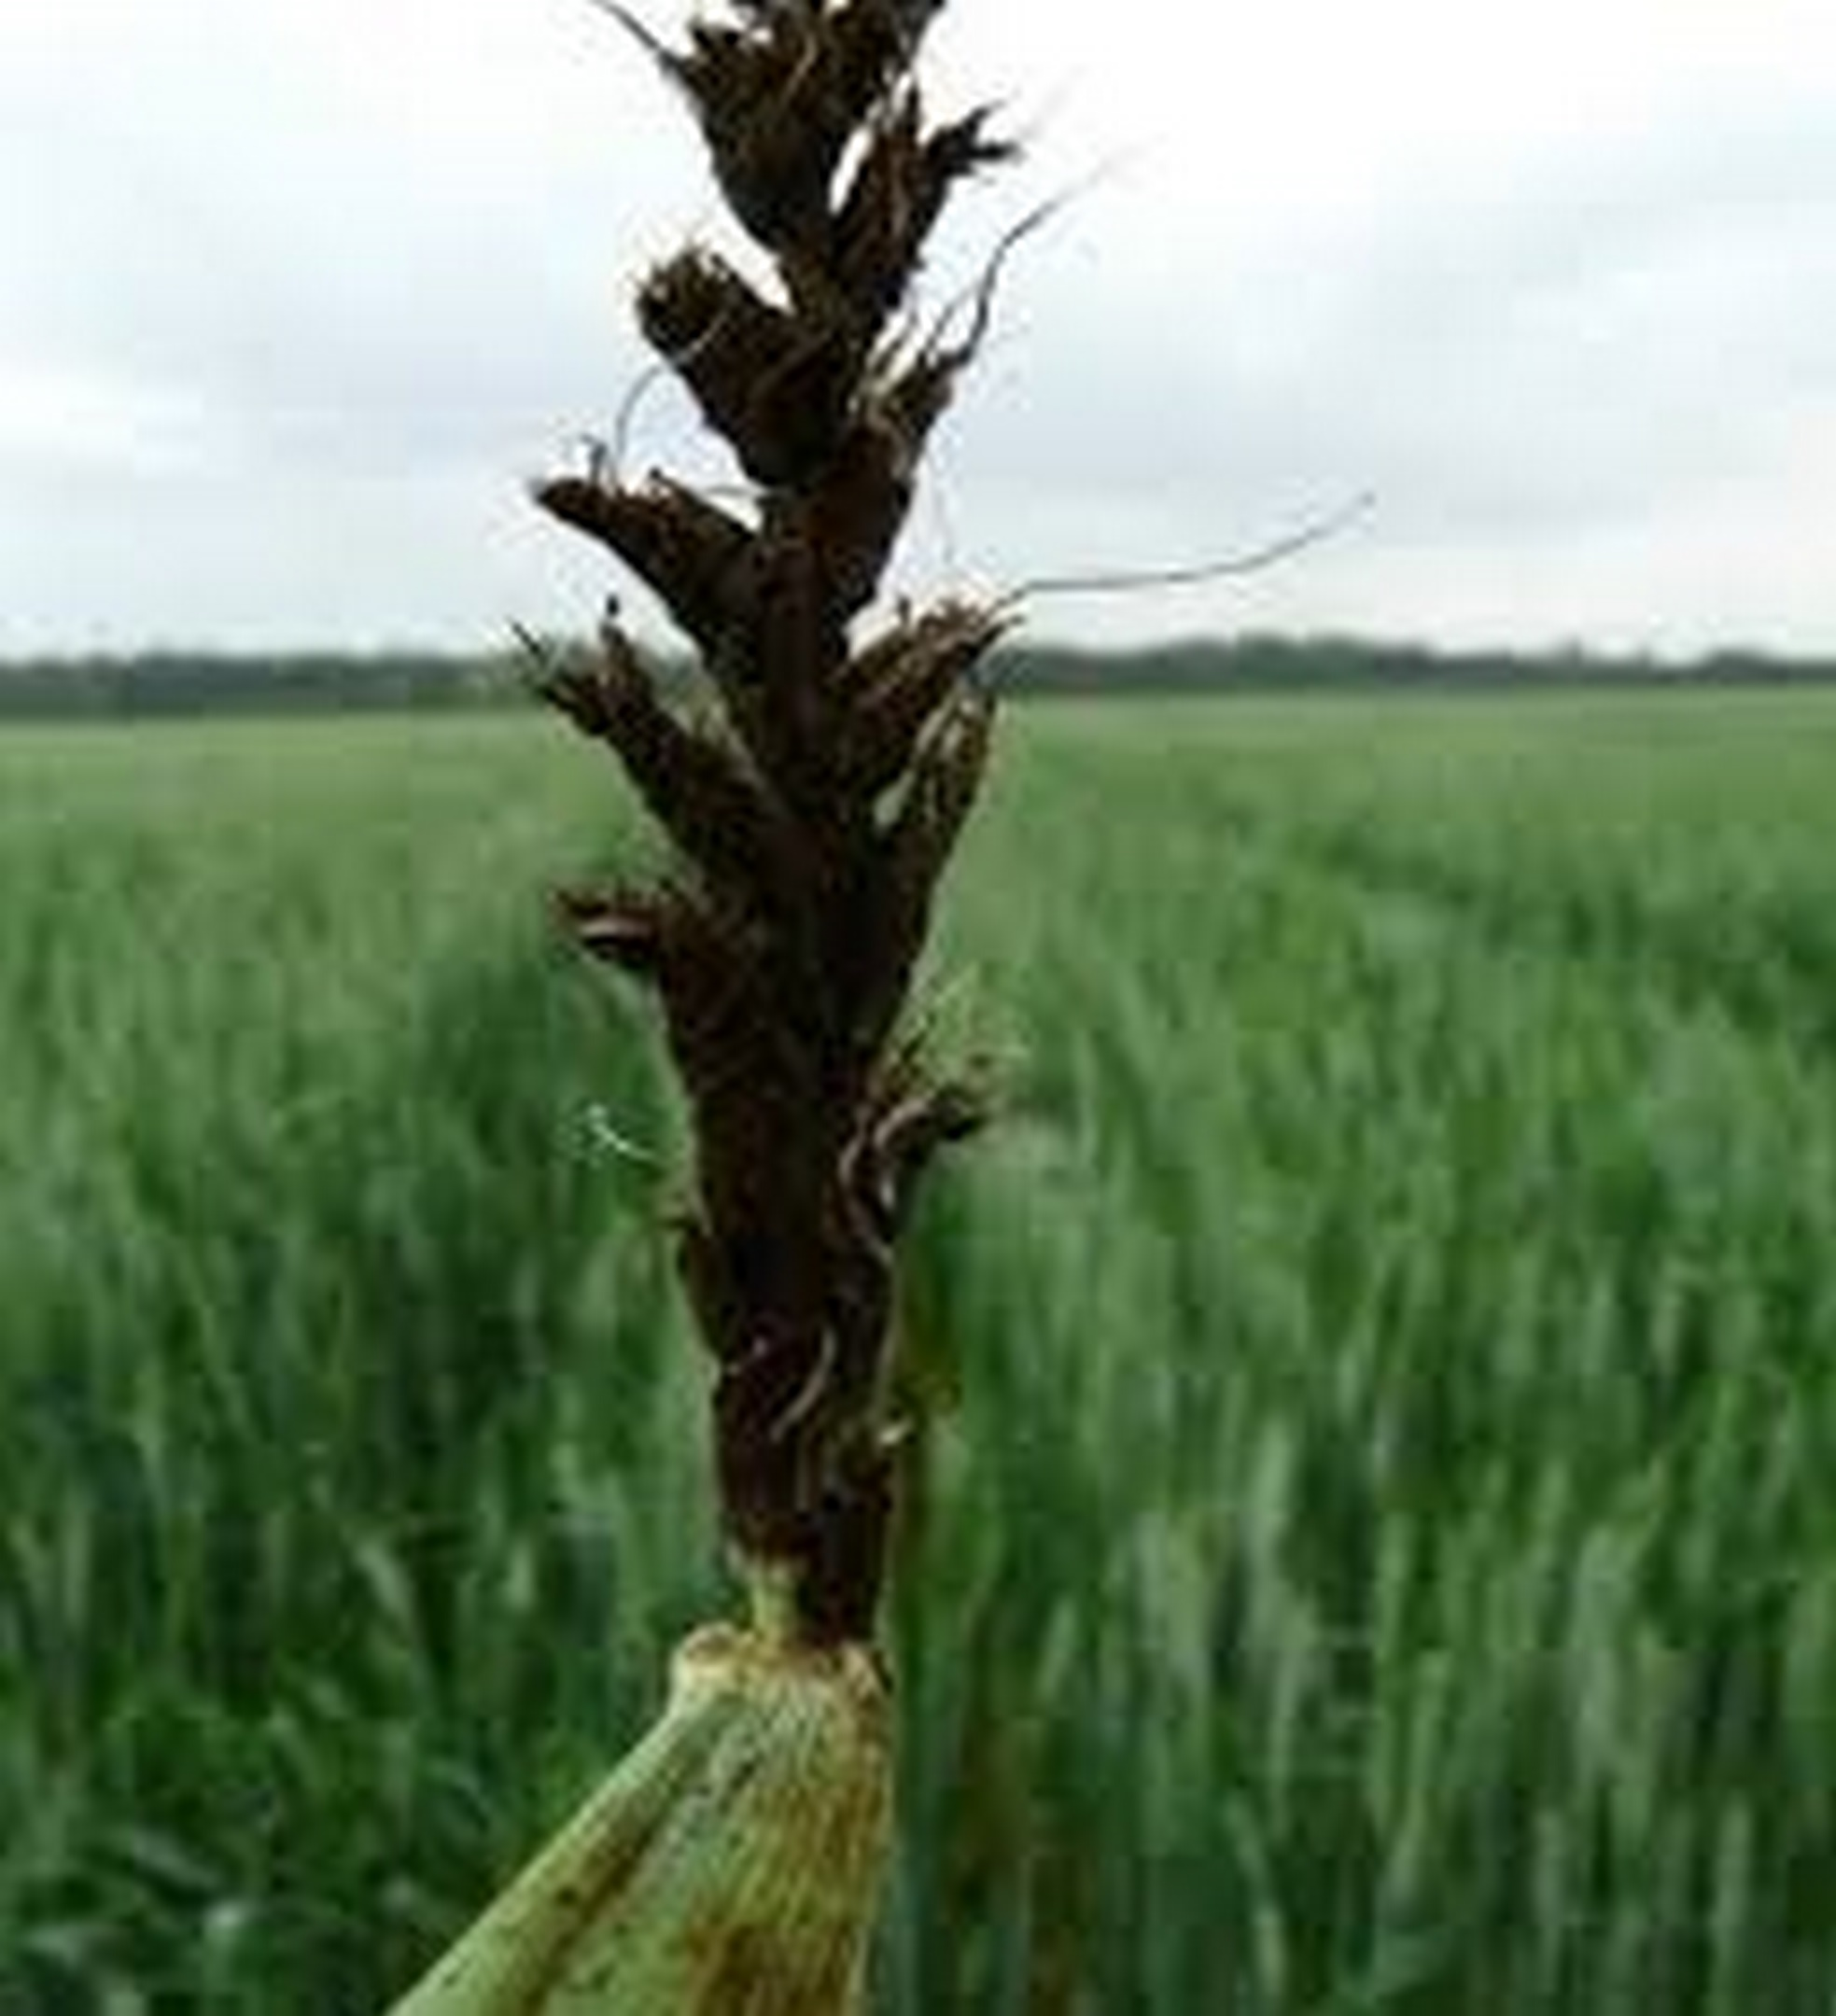Wheat Loose Smut: (499, 44, 1175, 1607)
